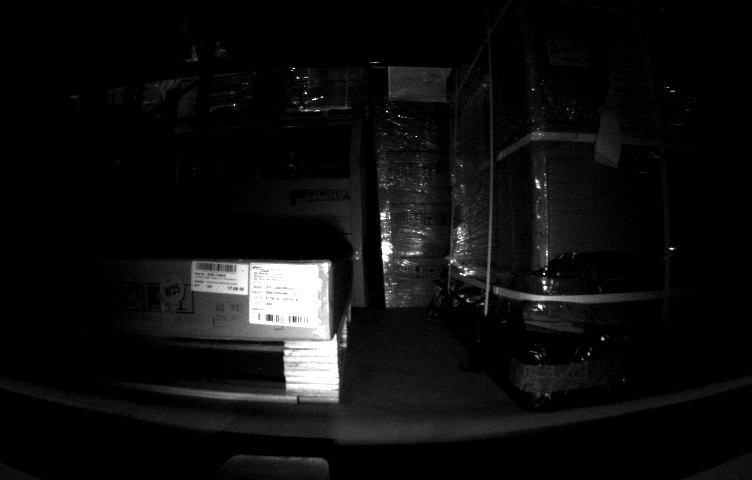True Barcode: (542, 25, 602, 65)
